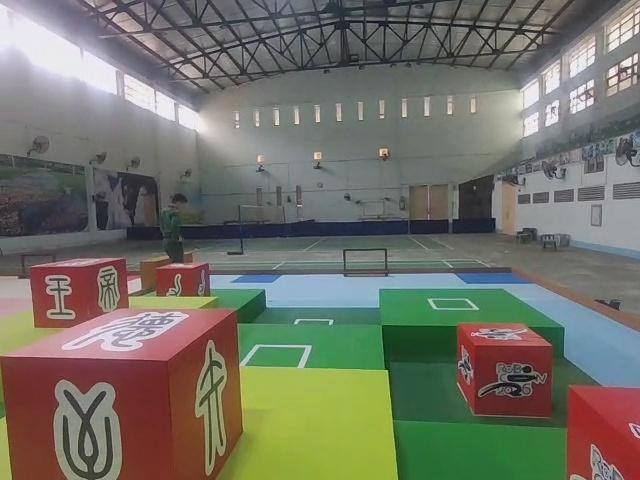R1: (454, 323, 554, 419)
R2 Fake: (3, 307, 243, 479), (30, 255, 129, 326)
R2 Real: (153, 260, 212, 299)
